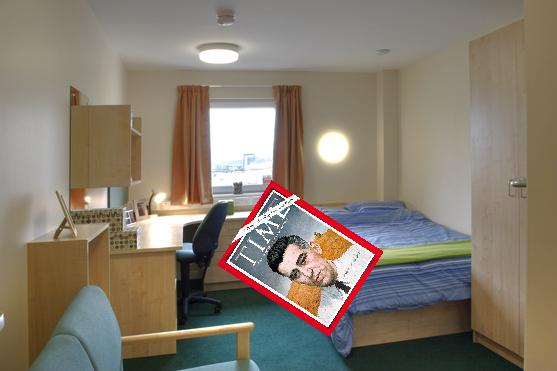times: (216, 179, 384, 333)
